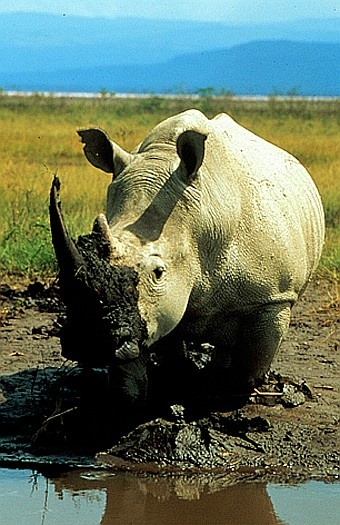rhino: (50, 109, 327, 389)
